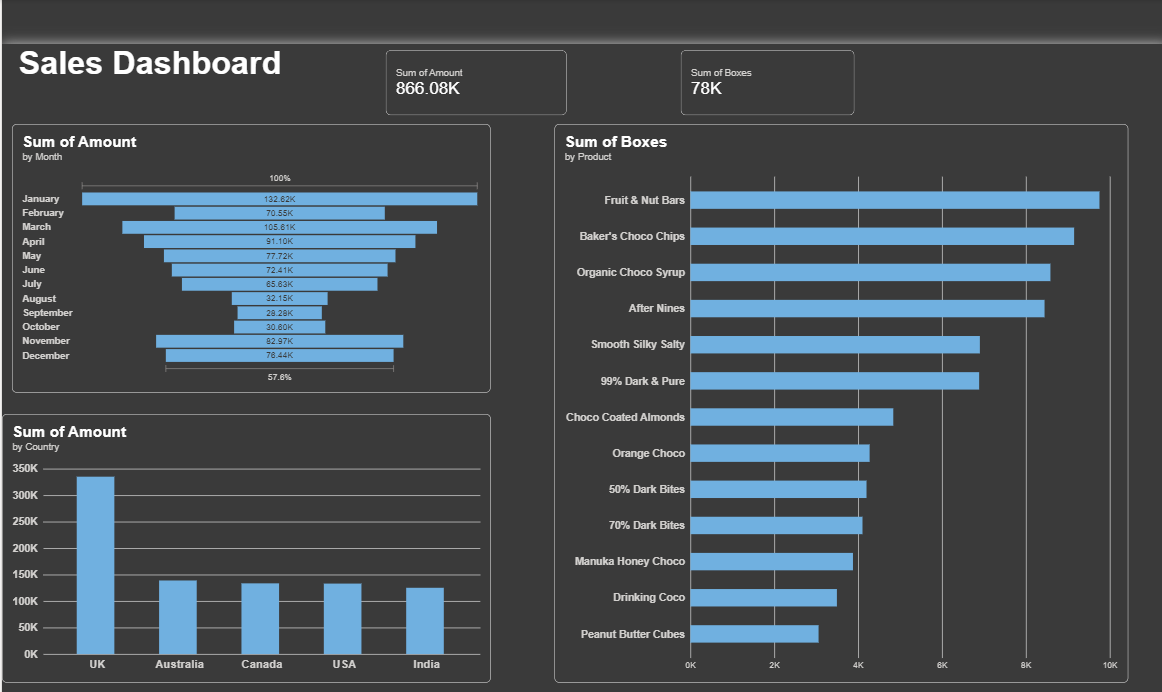

What the dashboard file says about the page in this screenshot:
{"tool":"powerbi","page":{"name":"Page 1","canvas":[1920,1080],"ordinal":0},"visuals":[{"type":"clusteredColumnChart","fields":{"Category":["ShipmentSalesData.Country"],"Y":["Sum(ShipmentSalesData.Amount)"]},"box":[0,609.3,804.8,442.5],"z":0},{"type":"textbox","box":[16.5,0,454.9,131.7],"z":1},{"type":"clusteredBarChart","fields":{"Category":["ShipmentSalesData.Product"],"Y":["Sum(ShipmentSalesData.Boxes)"]},"box":[909.8,131.7,944.8,920.1],"z":2},{"type":"funnel","fields":{"Category":["ShipmentSalesData.Date.Variation.Date Hierarchy.Month"],"Y":["Sum(ShipmentSalesData.Amount)"]},"box":[16.5,131.7,788.3,442.5],"z":3},{"type":"cardVisual","fields":{"Data":["Sum(ShipmentSalesData.Amount)"]},"box":[631.9,10.3,298.5,107],"z":4},{"type":"cardVisual","fields":{"Data":["Sum(ShipmentSalesData.Boxes)"]},"box":[1117.7,10.3,286.1,107],"z":5}]}

Visuals, with their boxes on the page's 1920x1080 design canvas (x1, y1, x2, y2). These are canvas units, not pixel positions in the 1162x692 screenshot, which may show the page scaled, cropped or inside an application window:
clusteredColumnChart - ShipmentSalesData.Country x Sum(ShipmentSalesData.Amount): {"left": 0, "top": 609, "right": 805, "bottom": 1052}
textbox: {"left": 16, "top": 0, "right": 471, "bottom": 132}
clusteredBarChart - ShipmentSalesData.Product x Sum(ShipmentSalesData.Boxes): {"left": 910, "top": 132, "right": 1855, "bottom": 1052}
funnel - ShipmentSalesData.Date.Variation.Date Hierarchy.Month x Sum(ShipmentSalesData.Amount): {"left": 16, "top": 132, "right": 805, "bottom": 574}
cardVisual - Sum(ShipmentSalesData.Amount): {"left": 632, "top": 10, "right": 930, "bottom": 117}
cardVisual - Sum(ShipmentSalesData.Boxes): {"left": 1118, "top": 10, "right": 1404, "bottom": 117}
